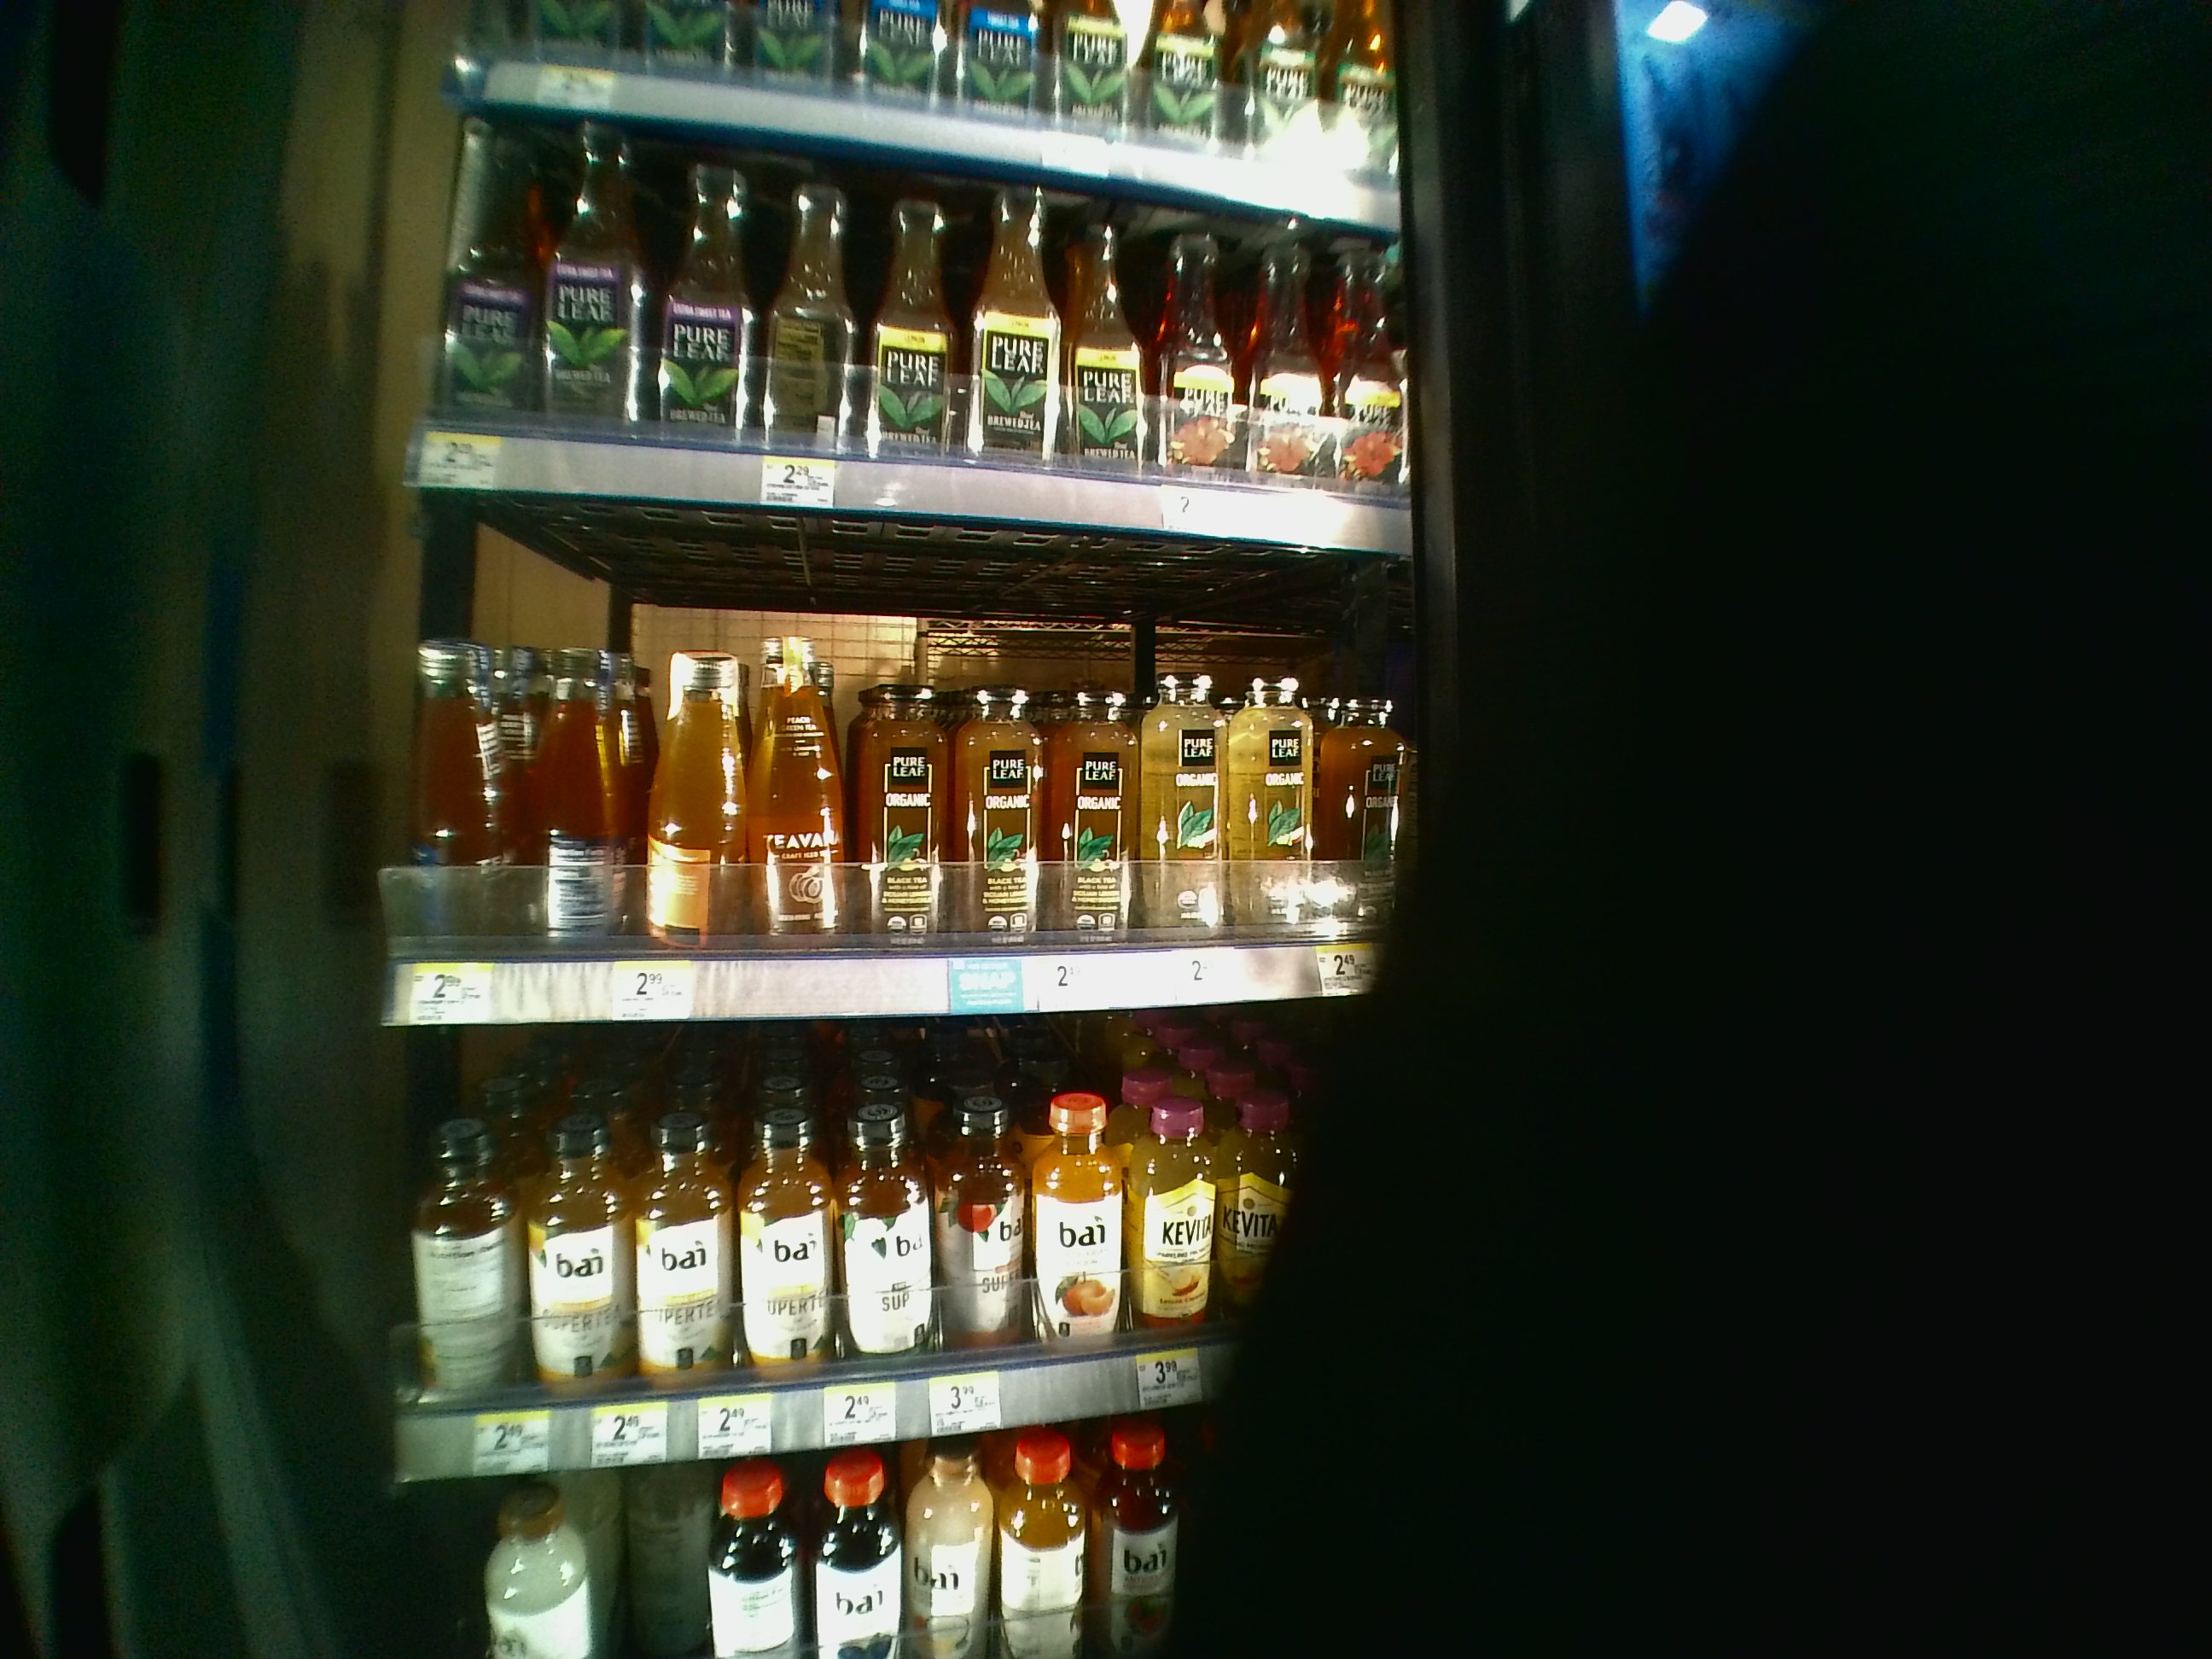shelf: (388, 532, 1428, 1028), (409, 108, 1406, 512)
